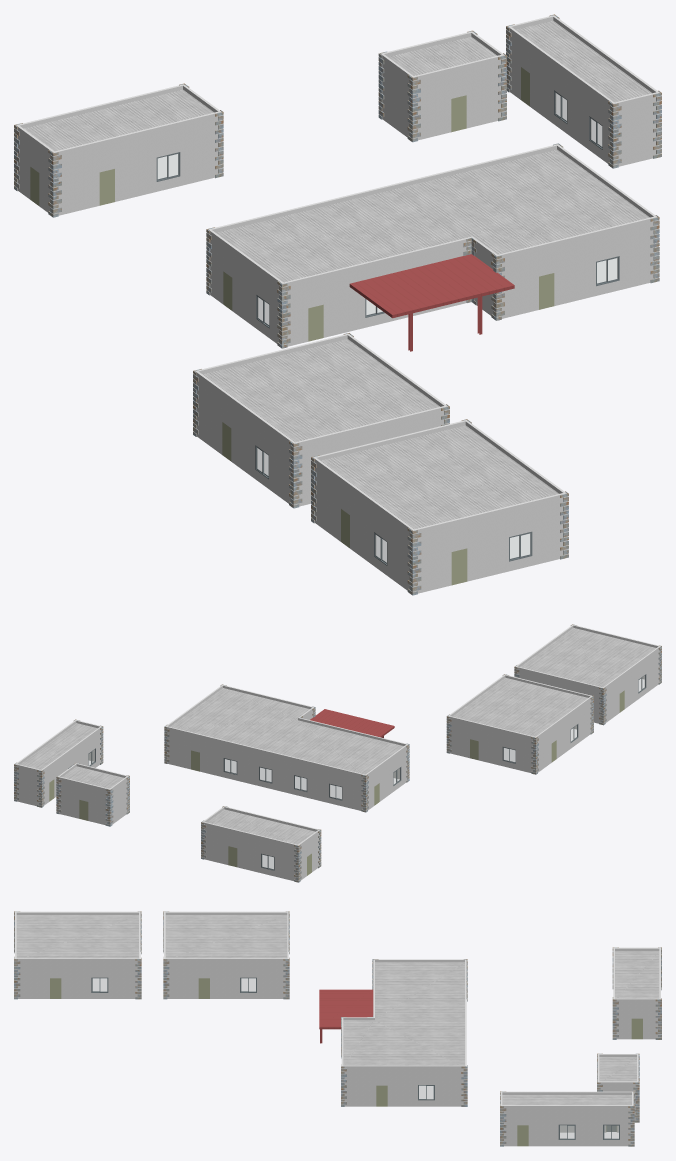
Rendered from Plan(REF)_levels(1)_window(W Sliding2 23_4)_wall(WAFRA WALL)_quoin(Y)_cornice(N).fbx.
3 views of the same model, one above another, from view 1: azimuth 30°, elevation 25°; view 2: azimuth 150°, elevation 25°; view 3: azimuth 270°, elevation 25° (orthographic). The views are drawn at different scales.
Parts seen in each view (by area): view 1: WAFRA Stucco - White Rough 23, WAFRA Roof - Corrugated Sheet Matte 23, WAFRA Stone - Slate Natural 23, WAFRA Roof - Standing Seam Red Coat 23, Color - Beige, Glass - Clear, Color - White, Metal - Finish - Aluminum; view 2: WAFRA Stucco - White Rough 23, WAFRA Roof - Corrugated Sheet Matte 23, WAFRA Stone - Slate Natural 23, Color - Beige, WAFRA Roof - Standing Seam Red Coat 23, Glass - Clear, Metal - Finish - Aluminum, Color - White; view 3: WAFRA Roof - Corrugated Sheet Matte 23, WAFRA Stucco - White Rough 23, WAFRA Stone - Slate Natural 23, WAFRA Roof - Standing Seam Red Coat 23, Color - Beige, Glass - Clear, Color - White, Metal - Finish - Aluminum.
Part boxes in pixels (x1=…): WAFRA Stucco - White Rough 23: x1=16, y1=15, x2=659, y2=593; WAFRA Roof - Corrugated Sheet Matte 23: x1=23, y1=20, x2=651, y2=529; WAFRA Stone - Slate Natural 23: x1=14, y1=14, x2=661, y2=595; WAFRA Roof - Standing Seam Red Coat 23: x1=349, y1=254, x2=514, y2=351; Color - Beige: x1=30, y1=67, x2=554, y2=585; Glass - Clear: x1=158, y1=93, x2=617, y2=562; Color - White: x1=14, y1=29, x2=661, y2=591; Metal - Finish - Aluminum: x1=156, y1=90, x2=619, y2=565; WAFRA Stucco - White Rough 23: x1=15, y1=624, x2=660, y2=880; WAFRA Roof - Corrugated Sheet Matte 23: x1=20, y1=628, x2=655, y2=844; WAFRA Stone - Slate Natural 23: x1=14, y1=624, x2=661, y2=882; Color - Beige: x1=49, y1=690, x2=624, y2=875; WAFRA Roof - Standing Seam Red Coat 23: x1=310, y1=709, x2=394, y2=737; Glass - Clear: x1=89, y1=676, x2=644, y2=868; Metal - Finish - Aluminum: x1=68, y1=674, x2=646, y2=870; Color - White: x1=14, y1=648, x2=661, y2=880; WAFRA Roof - Corrugated Sheet Matte 23: x1=16, y1=915, x2=659, y2=1105; WAFRA Stucco - White Rough 23: x1=15, y1=911, x2=660, y2=1146; WAFRA Stone - Slate Natural 23: x1=14, y1=911, x2=661, y2=1146; WAFRA Roof - Standing Seam Red Coat 23: x1=319, y1=989, x2=373, y2=1043; Color - Beige: x1=50, y1=978, x2=642, y2=1146; Glass - Clear: x1=93, y1=978, x2=618, y2=1138; Color - White: x1=14, y1=927, x2=661, y2=1144; Metal - Finish - Aluminum: x1=91, y1=977, x2=619, y2=1139.
Bounding box in the file's own units: 4163 × 5848 × 400.
12 materials, 5 textured.
